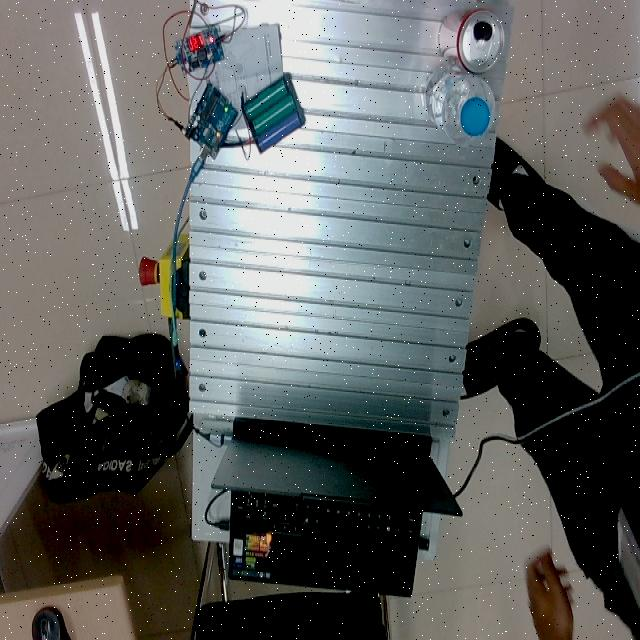coca: (452, 10, 505, 74)
lavie: (423, 63, 496, 149)
